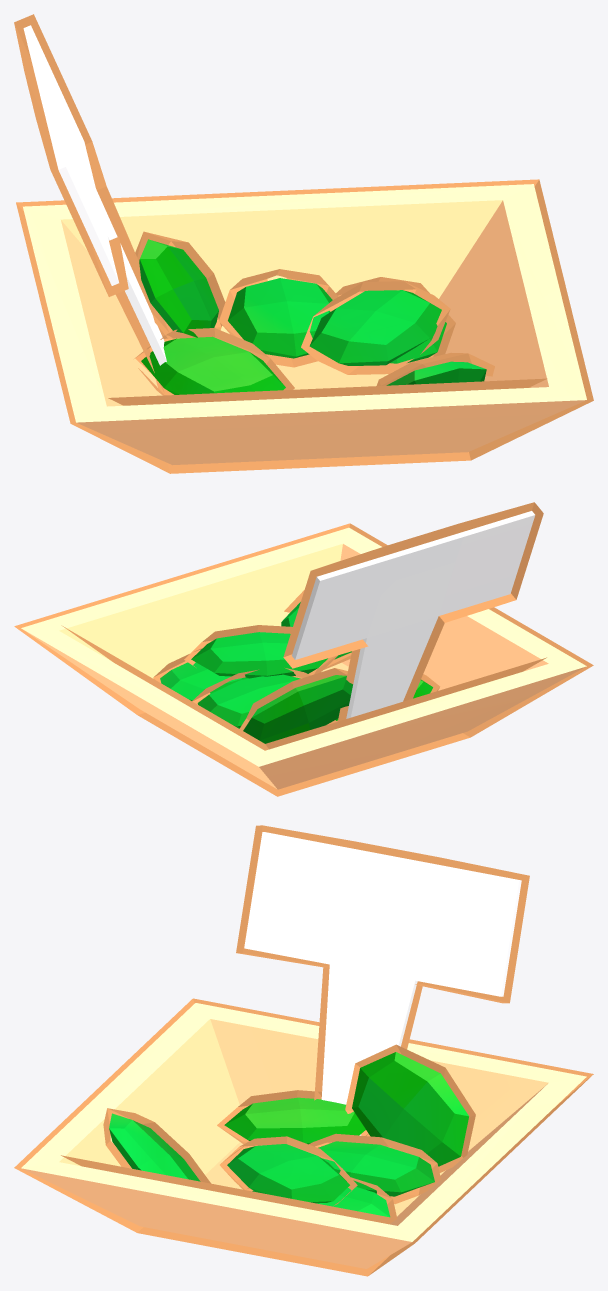
File: greenSeeds-positioned.glb
3 renders of one model, top to bottom at view 1: azimuth 30°, elevation 25°; view 2: azimuth 150°, elevation 25°; view 3: azimuth 270°, elevation 25°, orthographic. The views are drawn at different scales.
Visible parts, largest first — view 1: greenSeeds, greenSeeds.001; view 2: greenSeeds, greenSeeds.001; view 3: greenSeeds, greenSeeds.001.
Part boxes in pixels (<box>): greenSeeds: <box>23,25,586,465</box>; greenSeeds.001: <box>14,14,593,473</box>; greenSeeds: <box>21,511,586,789</box>; greenSeeds.001: <box>14,502,593,796</box>; greenSeeds: <box>21,832,586,1268</box>; greenSeeds.001: <box>14,825,593,1276</box>.
Size of the model in its own units: 0.5442 by 0.2844 by 0.5442.
2 materials, 2 textured.
